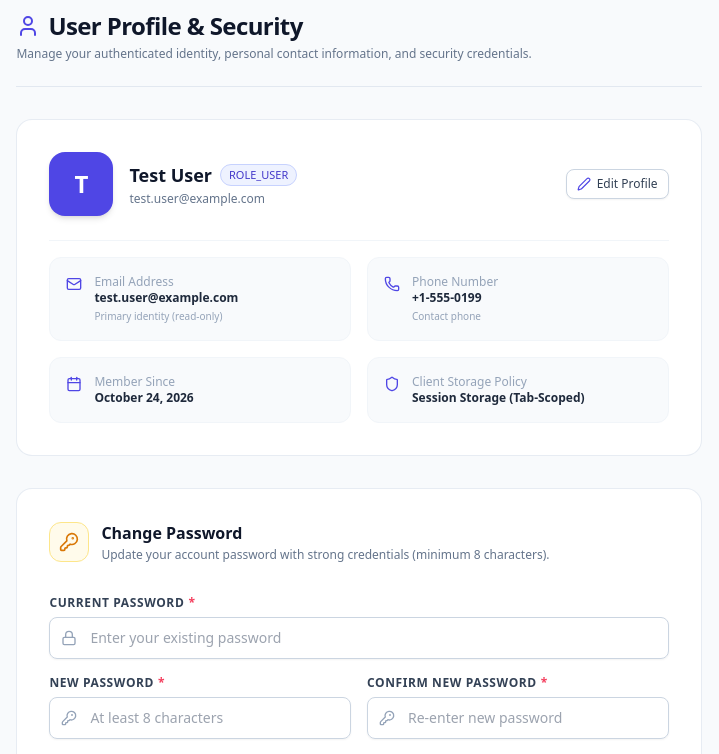
it: User Profile and Password Change Tests › 2. Enters edit mode, validates full name min length, and rejects empty submission
This screenshot has width=719, height=754.
Expected: the element with test id "profile-card" is shown, [16,119,702,456]
// Click edit profile
Click the button with test id "edit-profile-button": x=617, y=184 [566,169,669,199]
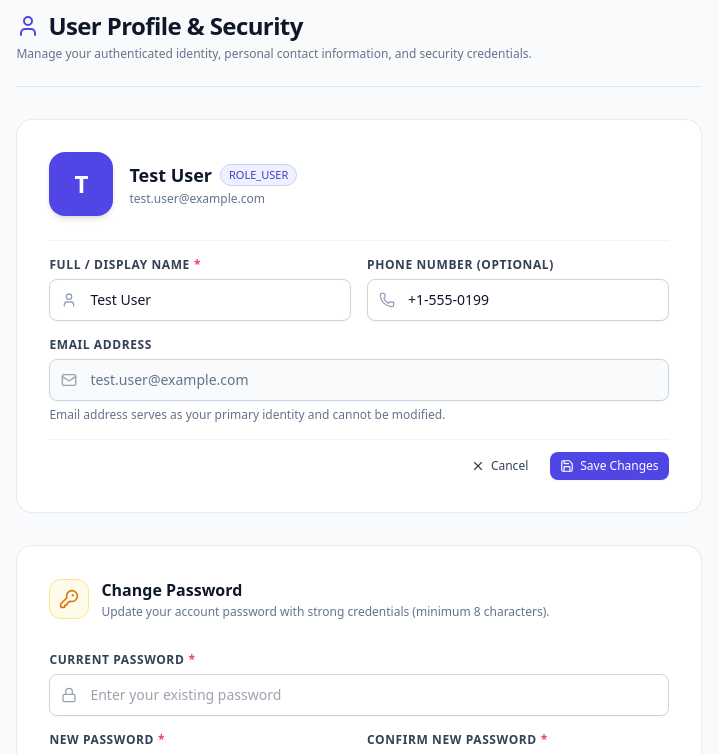
Now the form with test id "profile-edit-form" is shown, box [49,240,669,480]
// Clear name and save
Clear the field with test id "profile-name-input": x=200, y=300 [49,279,351,321]
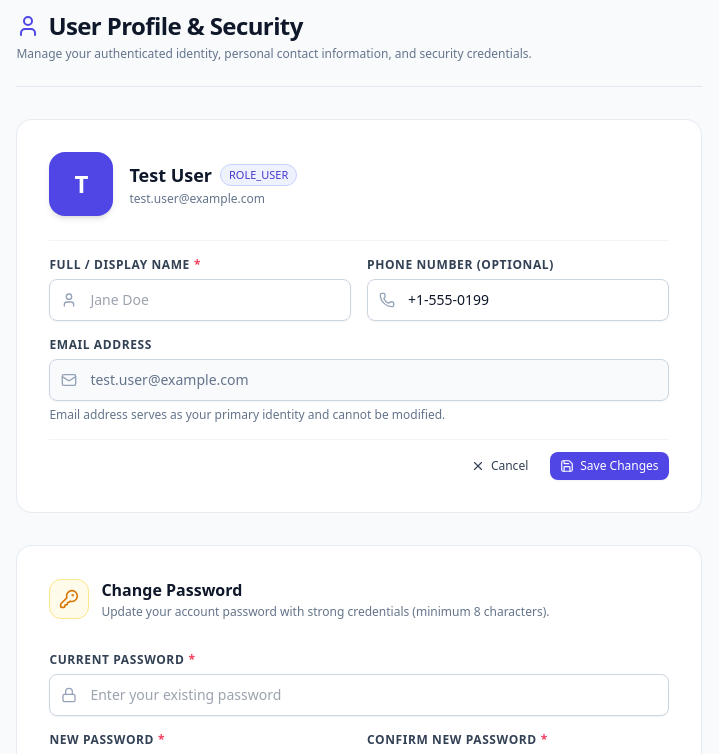
Click the button with test id "save-profile-button": x=610, y=466 [550,452,669,480]
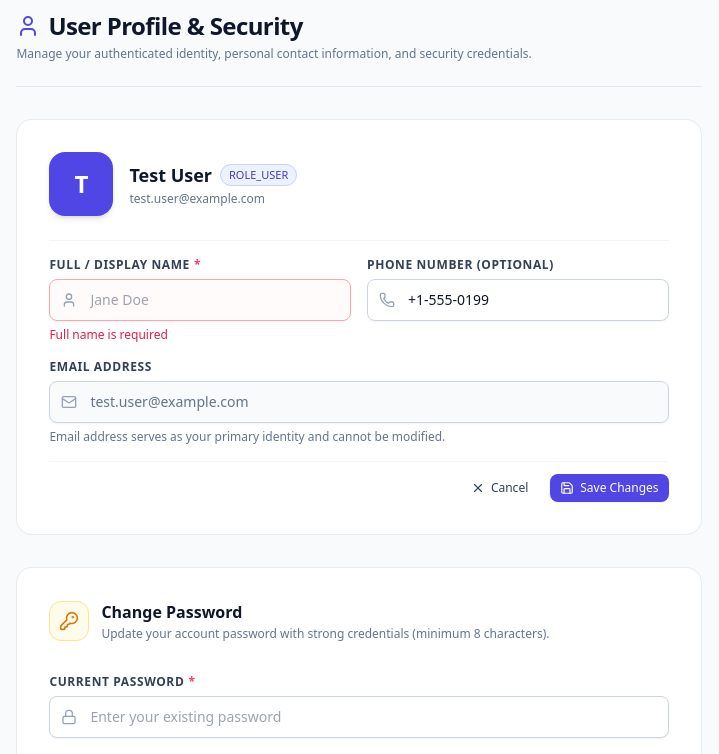
Now the text "Full name is required" is shown, box [49,326,168,343]
// Single character name
In the field with test id "profile-name-input": x=200, y=300 [49,279,351,321], type "A"
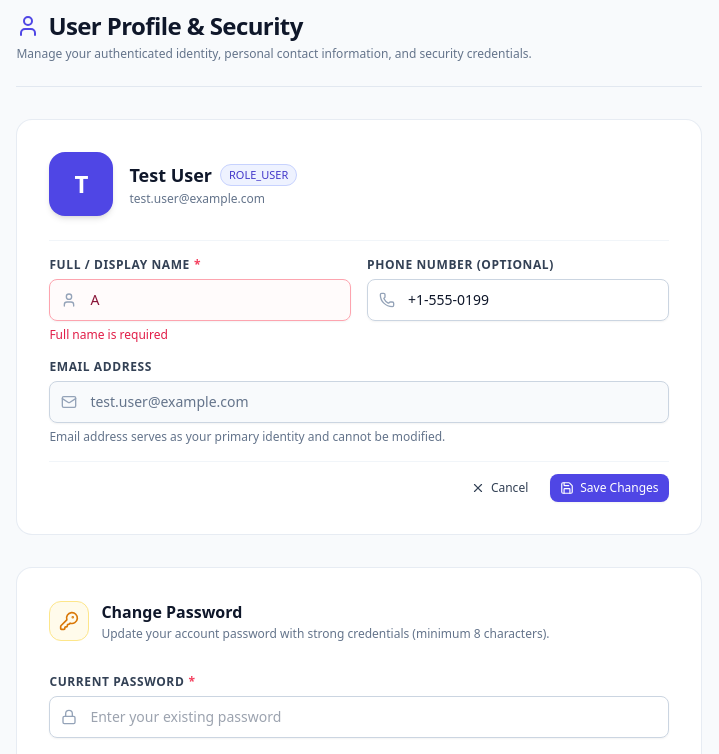
Click the button with test id "save-profile-button": x=610, y=488 [550,474,669,502]
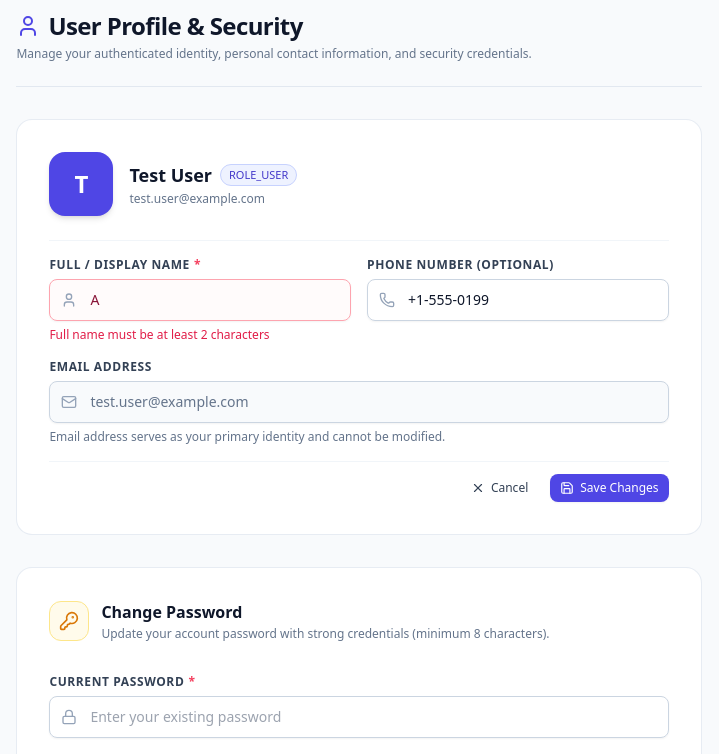
Now the field with test id "profile-email-readonly" is disabled, box [49,381,669,423]
Now the text "Full name must be at least 2 characters" is shown, box [49,326,270,343]
